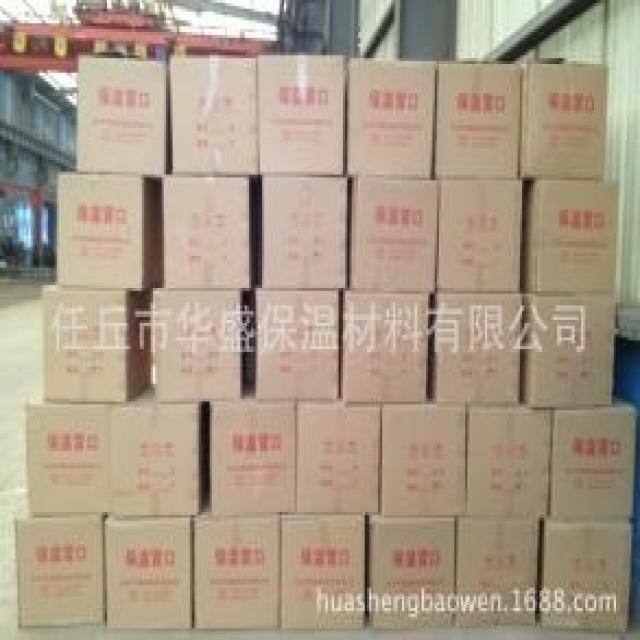box: (44, 282, 153, 404), (109, 381, 203, 518), (57, 175, 164, 291), (210, 378, 297, 515), (345, 55, 437, 180), (520, 180, 618, 297), (537, 515, 633, 634), (151, 279, 242, 404), (76, 55, 168, 177), (520, 291, 614, 410), (518, 58, 607, 183), (256, 55, 347, 177), (550, 393, 636, 521), (168, 58, 260, 177), (347, 177, 439, 291), (192, 515, 282, 631), (26, 396, 111, 518), (162, 175, 251, 291), (339, 291, 430, 404), (380, 401, 467, 518), (367, 515, 457, 628), (428, 294, 520, 404), (435, 61, 520, 180), (105, 515, 192, 631), (465, 404, 553, 518), (295, 401, 382, 515), (15, 518, 105, 628), (280, 515, 365, 631), (454, 515, 540, 628), (262, 177, 347, 291), (437, 180, 522, 294), (256, 291, 339, 401)
